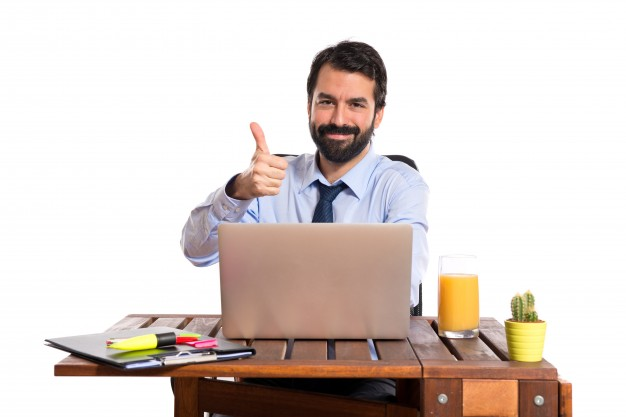thumbsup: (249, 120, 288, 196)
